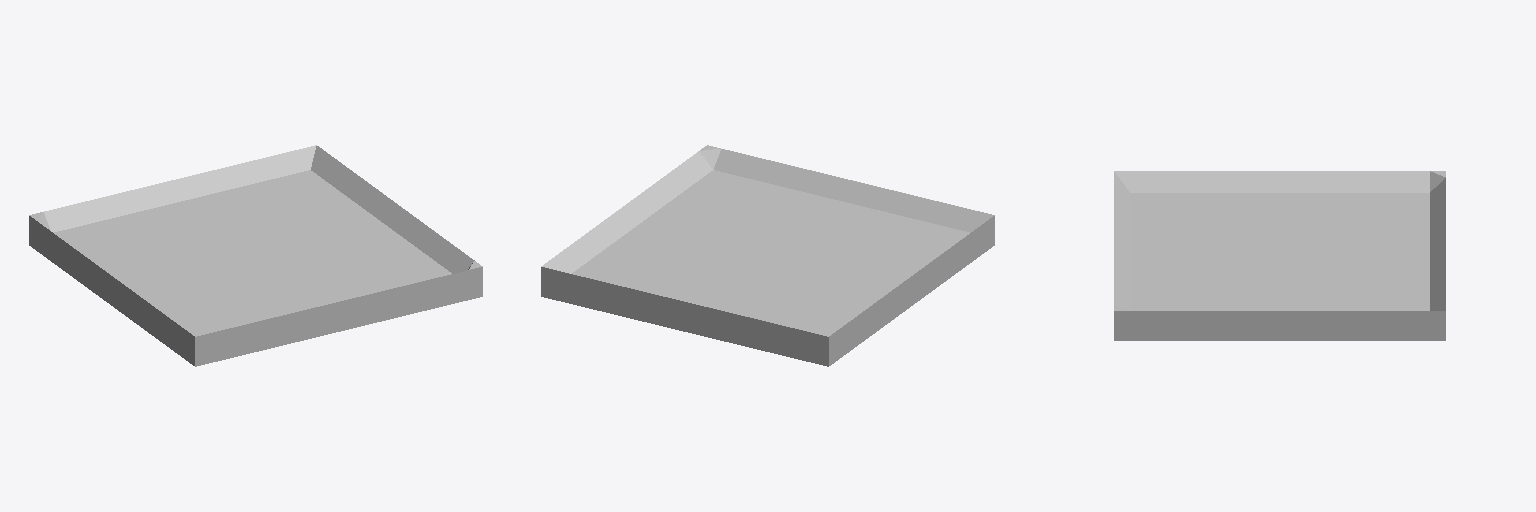
Rendered from chessboard.obj.
3 renders of one model, left to right at view 1: azimuth 30°, elevation 25°; view 2: azimuth 150°, elevation 25°; view 3: azimuth 270°, elevation 25°, orthographic.
Parts seen in each view (by area): view 1: Plane, Cube; view 2: Plane, Cube; view 3: Plane, Cube.
Boxes of the visible parts, box(x1,y1,x2,y2) form: Plane: box(54, 170, 451, 336); Cube: box(29, 145, 482, 366); Plane: box(572, 170, 969, 332); Cube: box(541, 145, 994, 366); Plane: box(1130, 193, 1429, 310); Cube: box(1114, 171, 1445, 340).
Bounding box in the file's own units: 2 × 0.2 × 2.